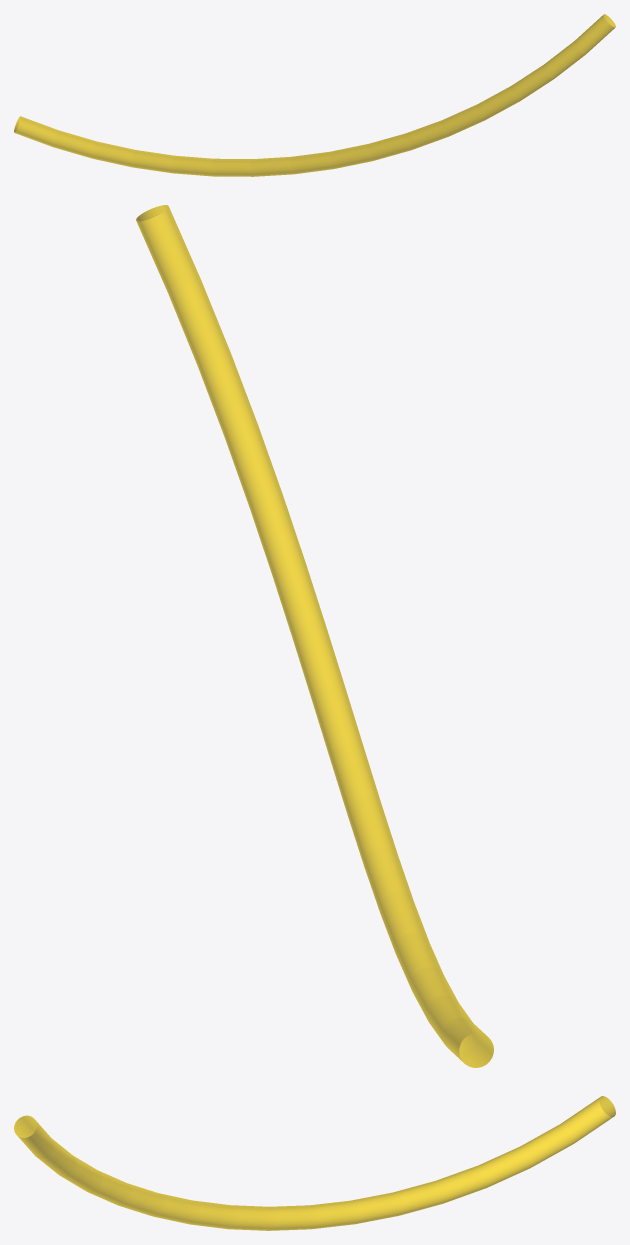
File: Event_40932208_track_26.fbx
3 renders of one model, top to bottom at view 1: azimuth 30°, elevation 25°; view 2: azimuth 150°, elevation 25°; view 3: azimuth 270°, elevation 25°, orthographic. The views are drawn at different scales.
Parts seen in each view (by area): view 1: Model; view 2: Model; view 3: Model.
Part boxes in pixels (x1,y1,x2,y2): Model: [14, 14, 615, 176]; Model: [136, 205, 493, 1067]; Model: [14, 1096, 615, 1230].
Bounding box in the file's own units: 1.01 × 0.4954 × 0.9963.
